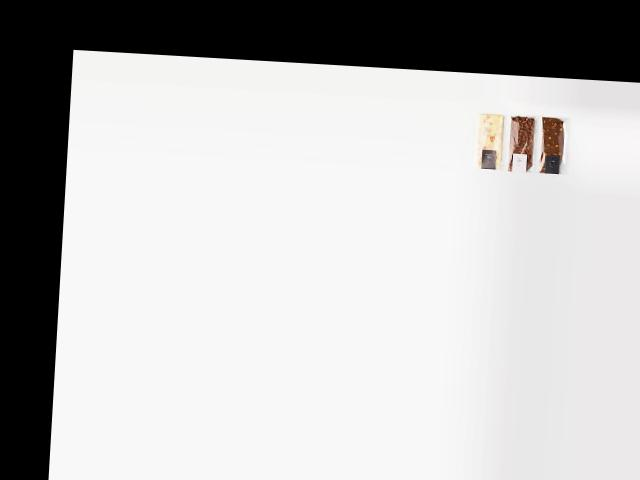chocolate: (540, 114, 570, 174)
